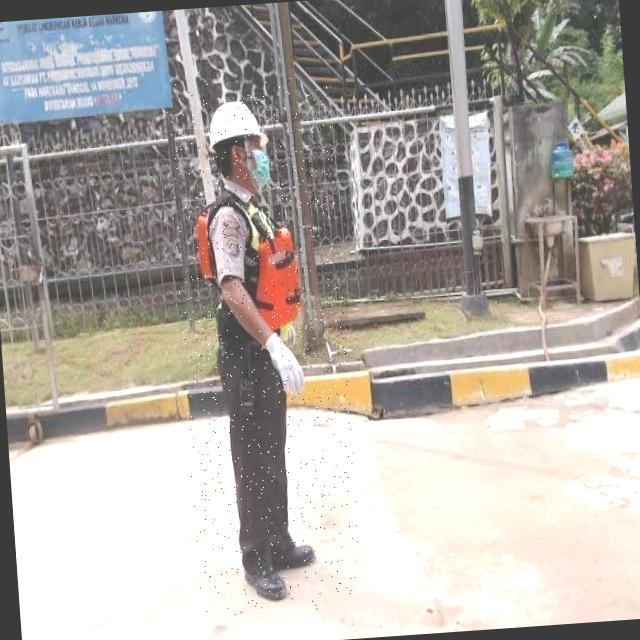boots: (242, 552, 290, 604), (266, 536, 320, 574)
helmet: (205, 95, 272, 152)
vest: (198, 190, 308, 347)
